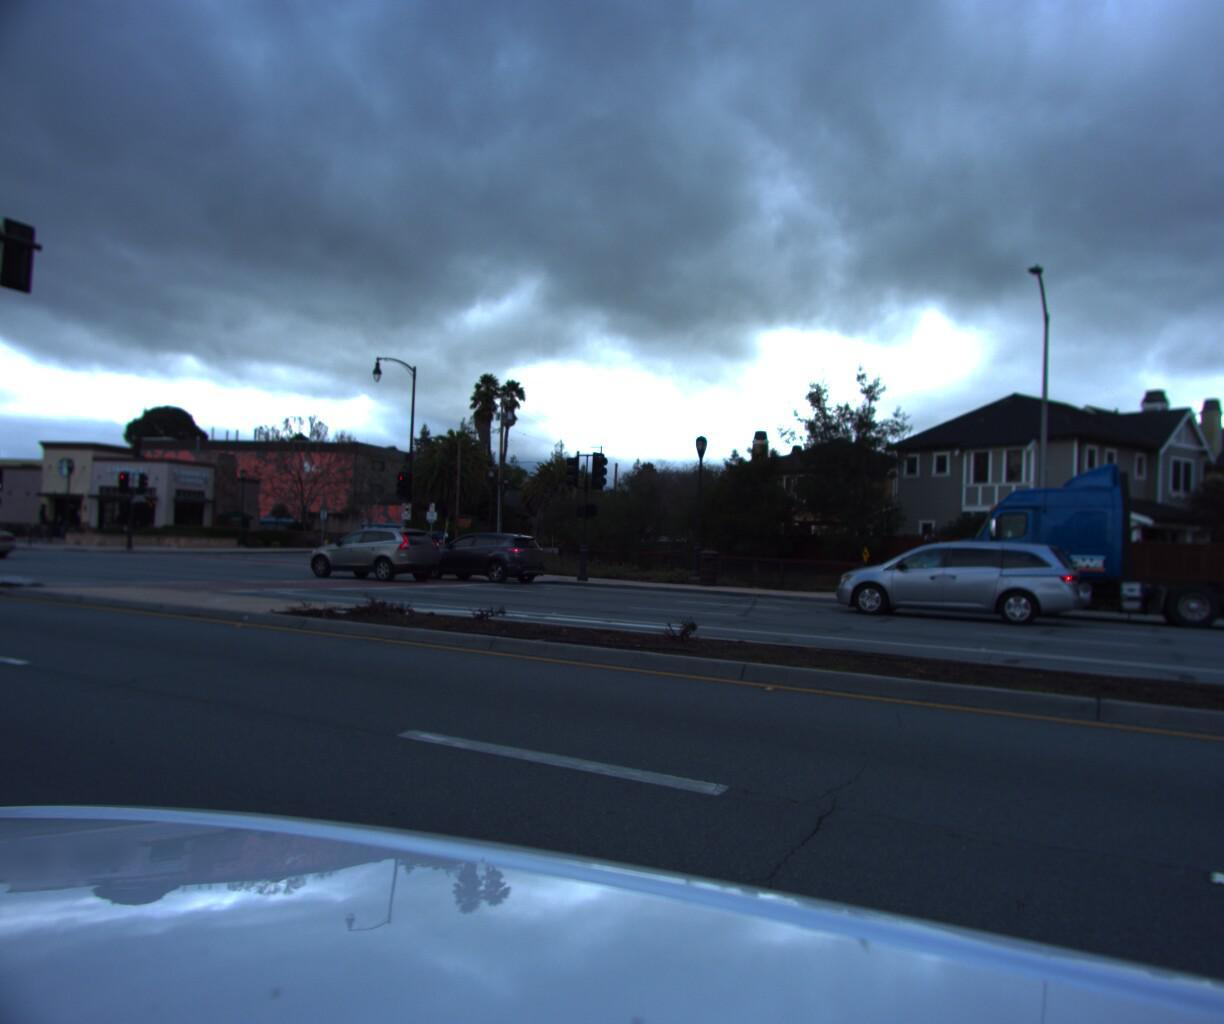car: (831, 534, 1087, 630), (303, 522, 445, 586), (406, 530, 553, 587), (0, 521, 17, 563)
truck: (895, 455, 1224, 638)
